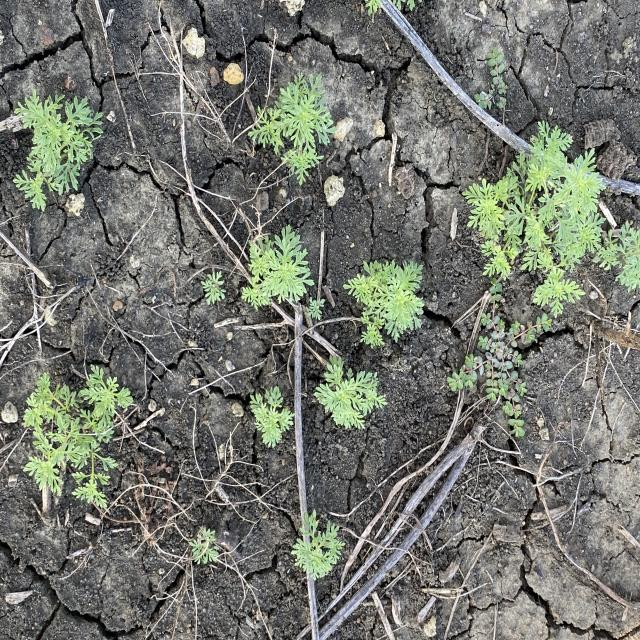Ragweed: (461, 115, 638, 320), (20, 362, 136, 518), (10, 87, 107, 213), (248, 64, 342, 182), (342, 256, 431, 350), (240, 222, 318, 315), (311, 351, 390, 433), (288, 509, 348, 584), (246, 382, 296, 448), (187, 522, 221, 569), (200, 267, 228, 310)
SpottedSpurge: (444, 276, 554, 452), (472, 44, 510, 115)
